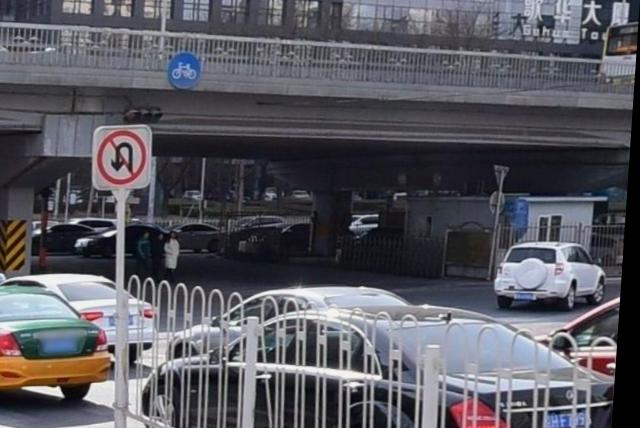not_u_turn_left: (99, 130, 153, 184)
